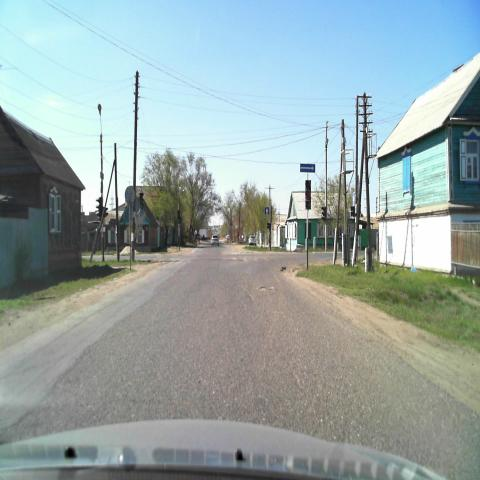5_7_1: (300, 162, 316, 174)
